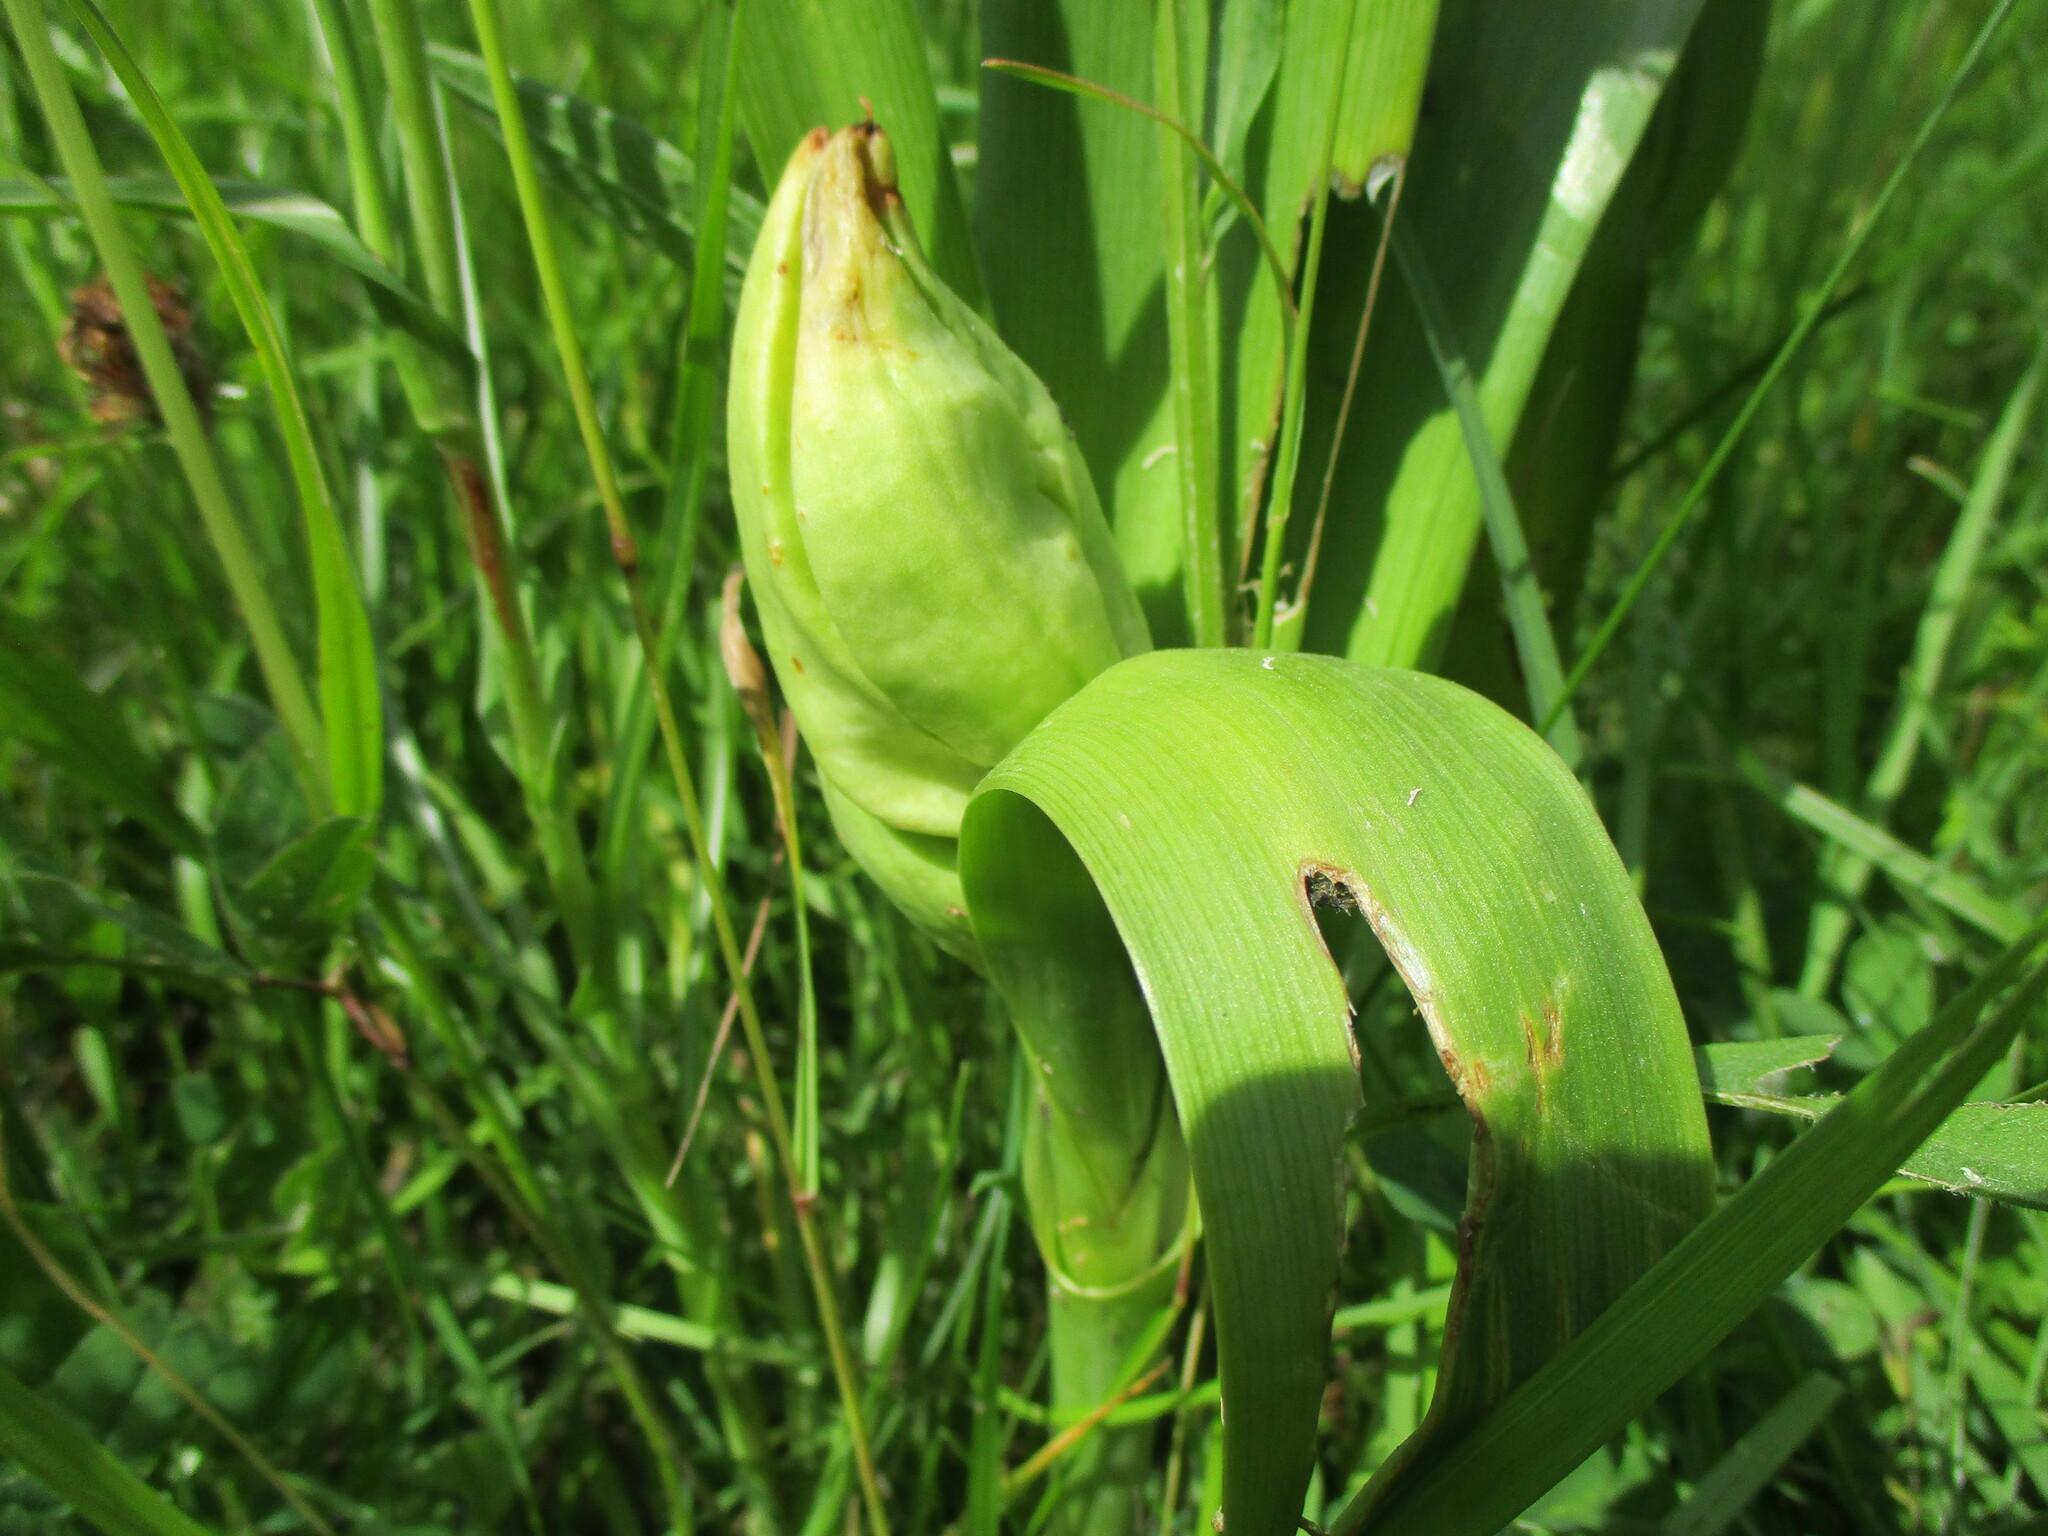Colchicum autumnale L: (693, 6, 1766, 1536)
